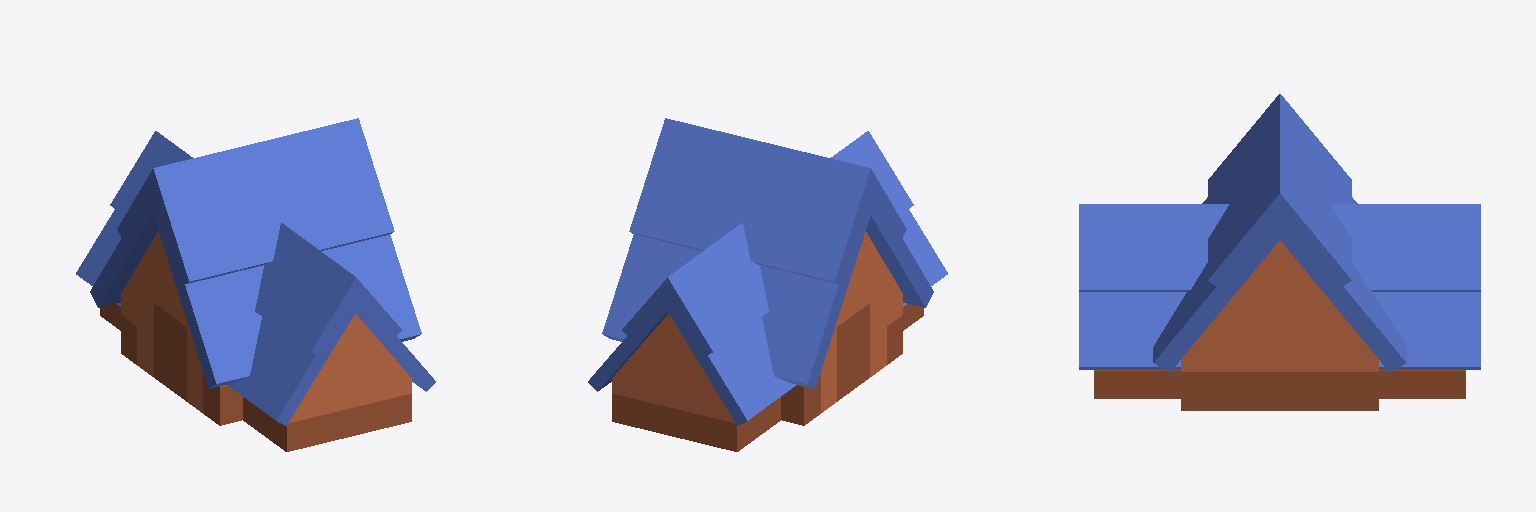
The model's file is unit_houseLarge.obj.
3 renders of one model, left to right at view 1: azimuth 30°, elevation 25°; view 2: azimuth 150°, elevation 25°; view 3: azimuth 270°, elevation 25°, orthographic.
Visible parts, largest first — view 1: unit_houseLarge; view 2: unit_houseLarge; view 3: unit_houseLarge.
Part boxes in pixels (x1,y1,x2,y2): unit_houseLarge: (76, 118, 435, 451); unit_houseLarge: (588, 118, 947, 451); unit_houseLarge: (1079, 94, 1480, 410).
Size of the model in its own units: 0.36 by 0.3781 by 0.6094.